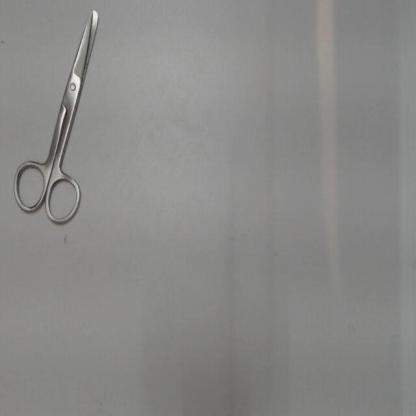Dressing Scissors: (4, 2, 108, 235)
